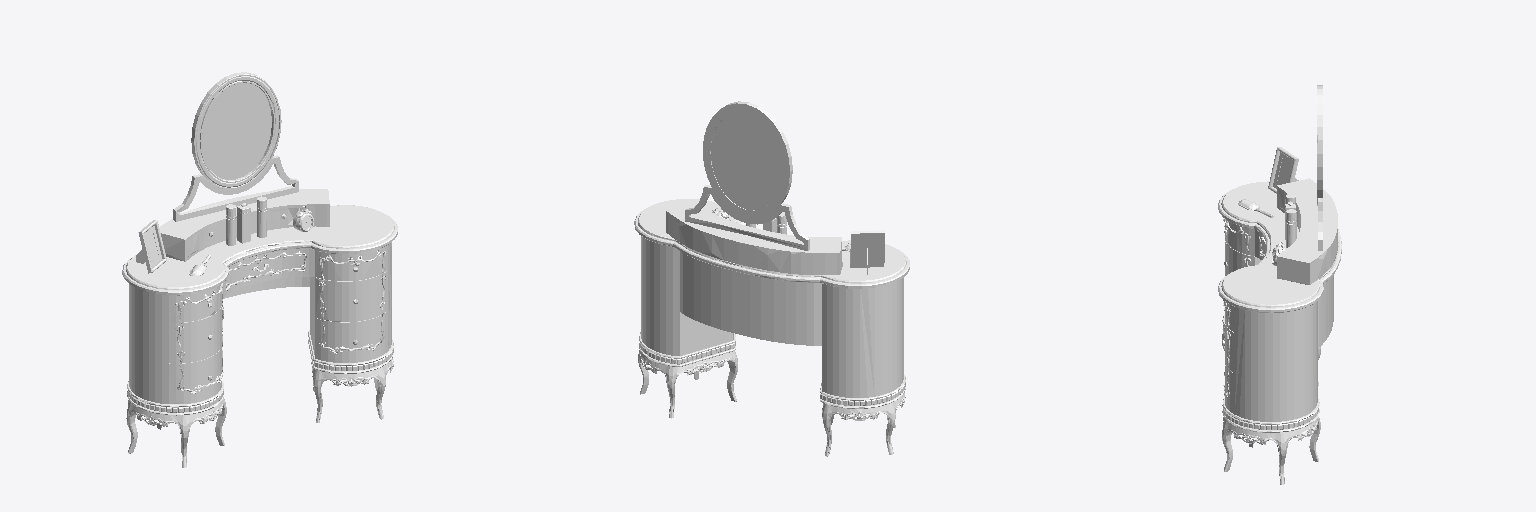
Rendered from 9892f752-2515-4ba6-8e29-e57faaf21d9a.obj.
3 views of the same model, side by side, from view 1: azimuth 30°, elevation 25°; view 2: azimuth 150°, elevation 25°; view 3: azimuth 270°, elevation 25° (orthographic).
Size of the model in its own units: 0.5729 by 0.7 by 0.2352.